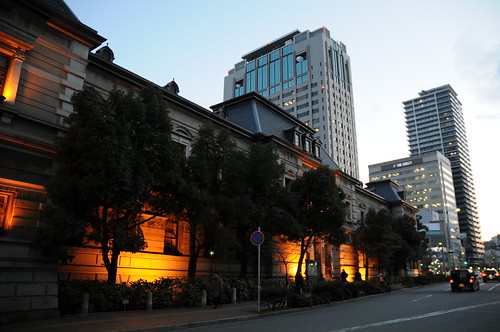building: (1, 41, 408, 332), (227, 30, 357, 159), (408, 86, 479, 254), (367, 153, 461, 275)
car: (448, 269, 475, 292)
sky: (126, 1, 494, 191)
tree: (60, 87, 186, 289), (181, 128, 241, 294), (238, 127, 293, 278), (282, 169, 348, 257), (362, 206, 428, 284)
